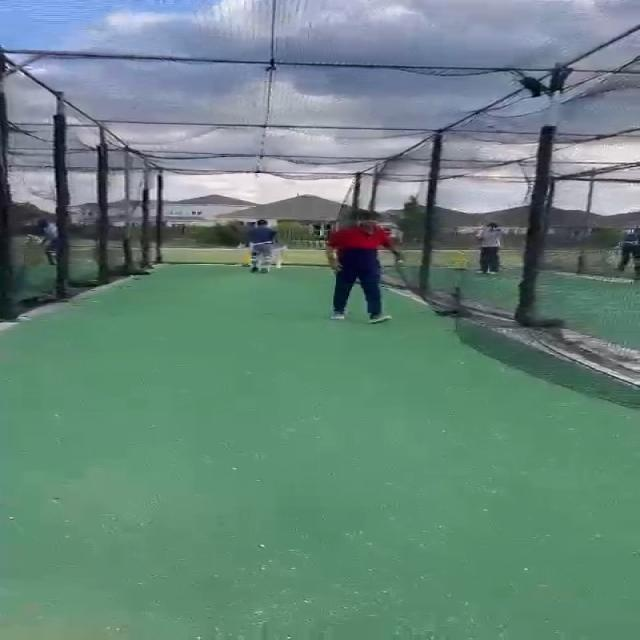batsman: (235, 218, 289, 274)
